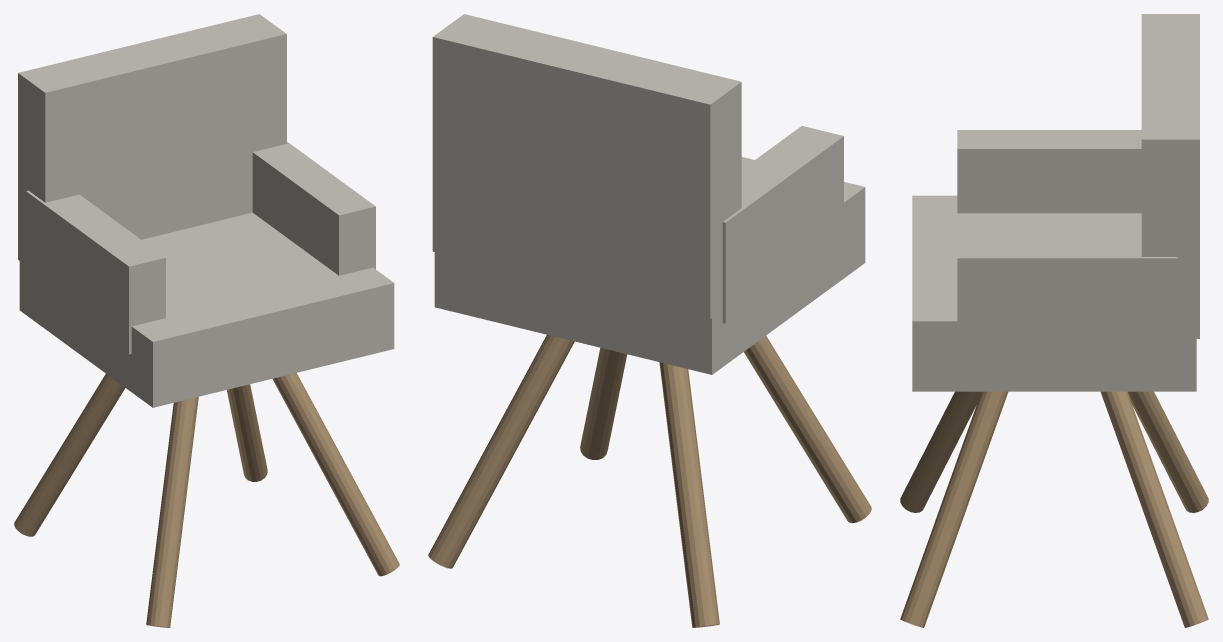
File: elbe.glb
3 renders of one model, left to right at view 1: azimuth 30°, elevation 25°; view 2: azimuth 150°, elevation 25°; view 3: azimuth 270°, elevation 25°, orthographic. The views are drawn at different scales.
Visible parts, largest first — view 1: MMA_Upholstery, MMA_Wood; view 2: MMA_Upholstery, MMA_Wood; view 3: MMA_Upholstery, MMA_Wood.
Part boxes in pixels (bbox=[...]): MMA_Upholstery: bbox=[18, 14, 394, 407]; MMA_Wood: bbox=[14, 373, 399, 627]; MMA_Upholstery: bbox=[432, 14, 865, 374]; MMA_Wood: bbox=[428, 335, 871, 627]; MMA_Upholstery: bbox=[912, 14, 1199, 391]; MMA_Wood: bbox=[900, 391, 1208, 627].
Size of the model in its own units: 0.4777 by 0.8394 by 0.4772.
